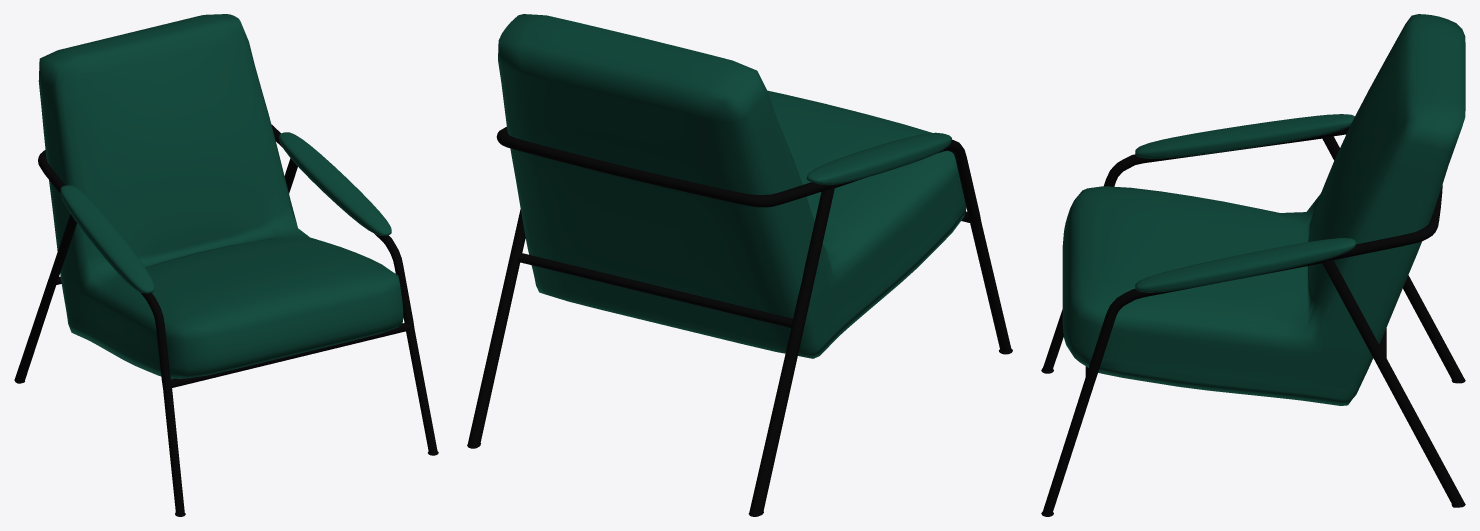
File: arm8.glb
3 views of the same model, side by side, from view 1: azimuth 30°, elevation 25°; view 2: azimuth 150°, elevation 25°; view 3: azimuth 270°, elevation 25° (orthographic). The views are drawn at different scales.
Visible parts, largest first — view 1: Hammett Armchair; view 2: Hammett Armchair; view 3: Hammett Armchair.
Part boxes in pixels (left/top/right/bottom): Hammett Armchair: left=14, top=14, right=438, bottom=516; Hammett Armchair: left=467, top=14, right=1012, bottom=516; Hammett Armchair: left=1041, top=14, right=1465, bottom=516.
Size of the model in its own units: 0.6547 by 0.7862 by 0.7924.
Materials: 1 (1 with a texture image).
